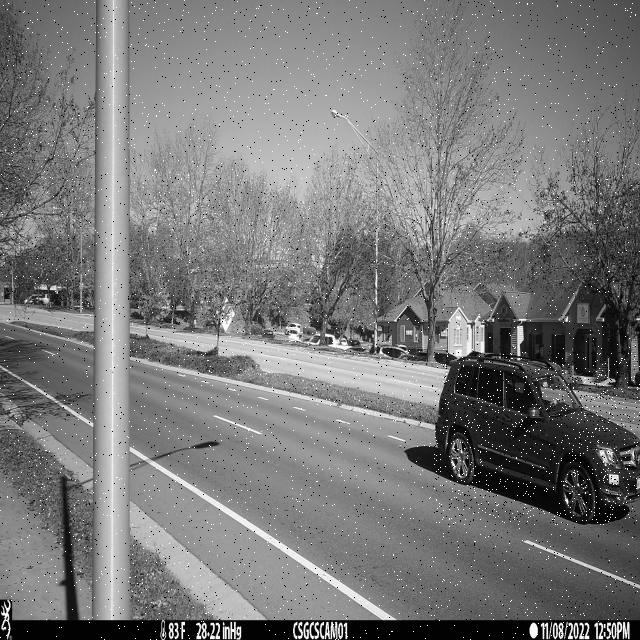SUV: (434, 352, 640, 525)
